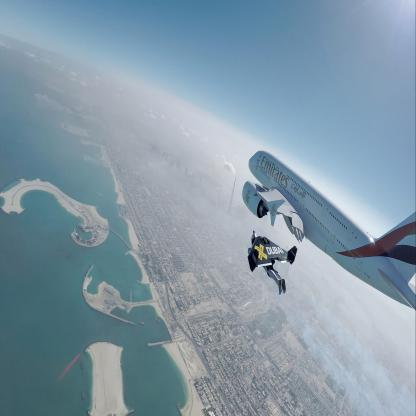CIV_Plane: (242, 136, 416, 311)
